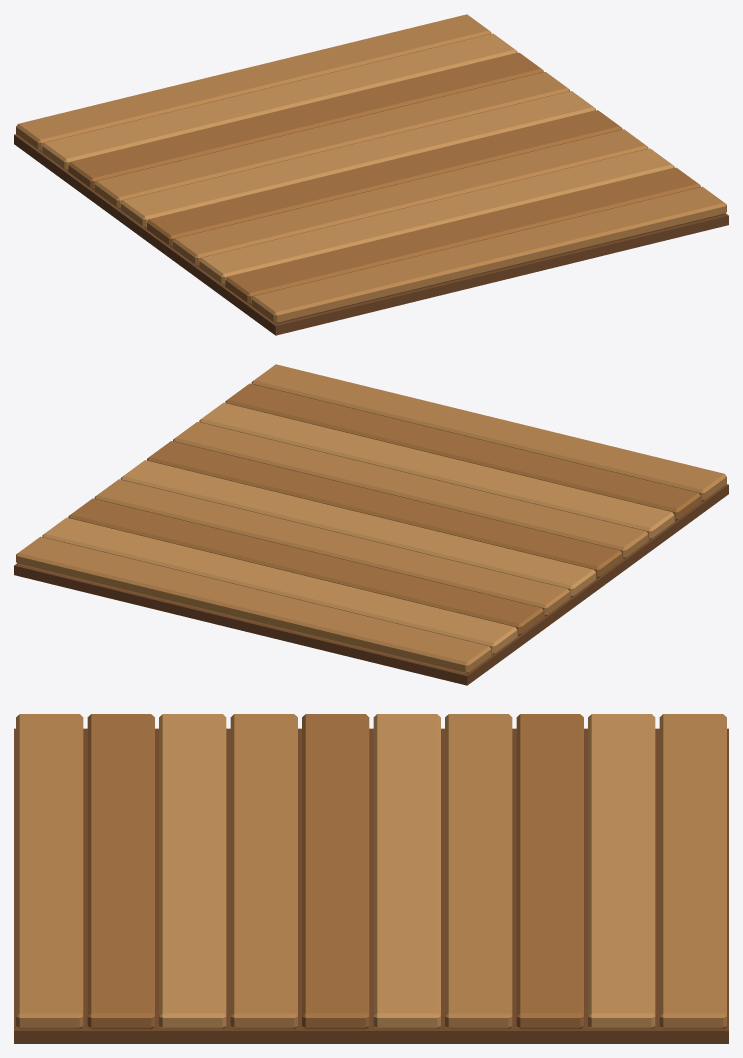
The model's file is floor_wood_2x2.glb.
3 views of the same model, one above another, from view 1: azimuth 30°, elevation 25°; view 2: azimuth 150°, elevation 25°; view 3: azimuth 270°, elevation 25° (orthographic). The views are drawn at different scales.
Parts seen in each view (by area): view 1: floor_wood_2x2; view 2: floor_wood_2x2; view 3: floor_wood_2x2.
Boxes of the visible parts, x1,y1,x2,y2 form: floor_wood_2x2: [14, 14, 728, 335]; floor_wood_2x2: [14, 364, 728, 685]; floor_wood_2x2: [14, 714, 728, 1043].
Bounding box in the file's own units: 2 × 0.09 × 2.
